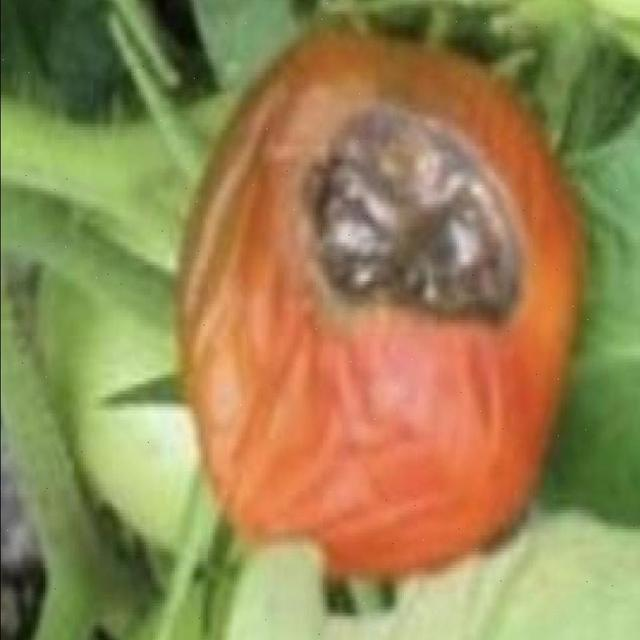Sunscald Fruit: (196, 69, 358, 228)
